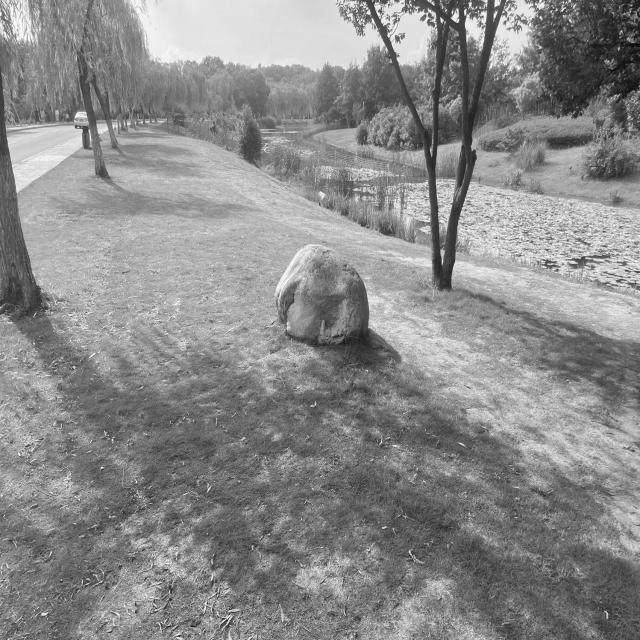Stone: (276, 245, 369, 344)
